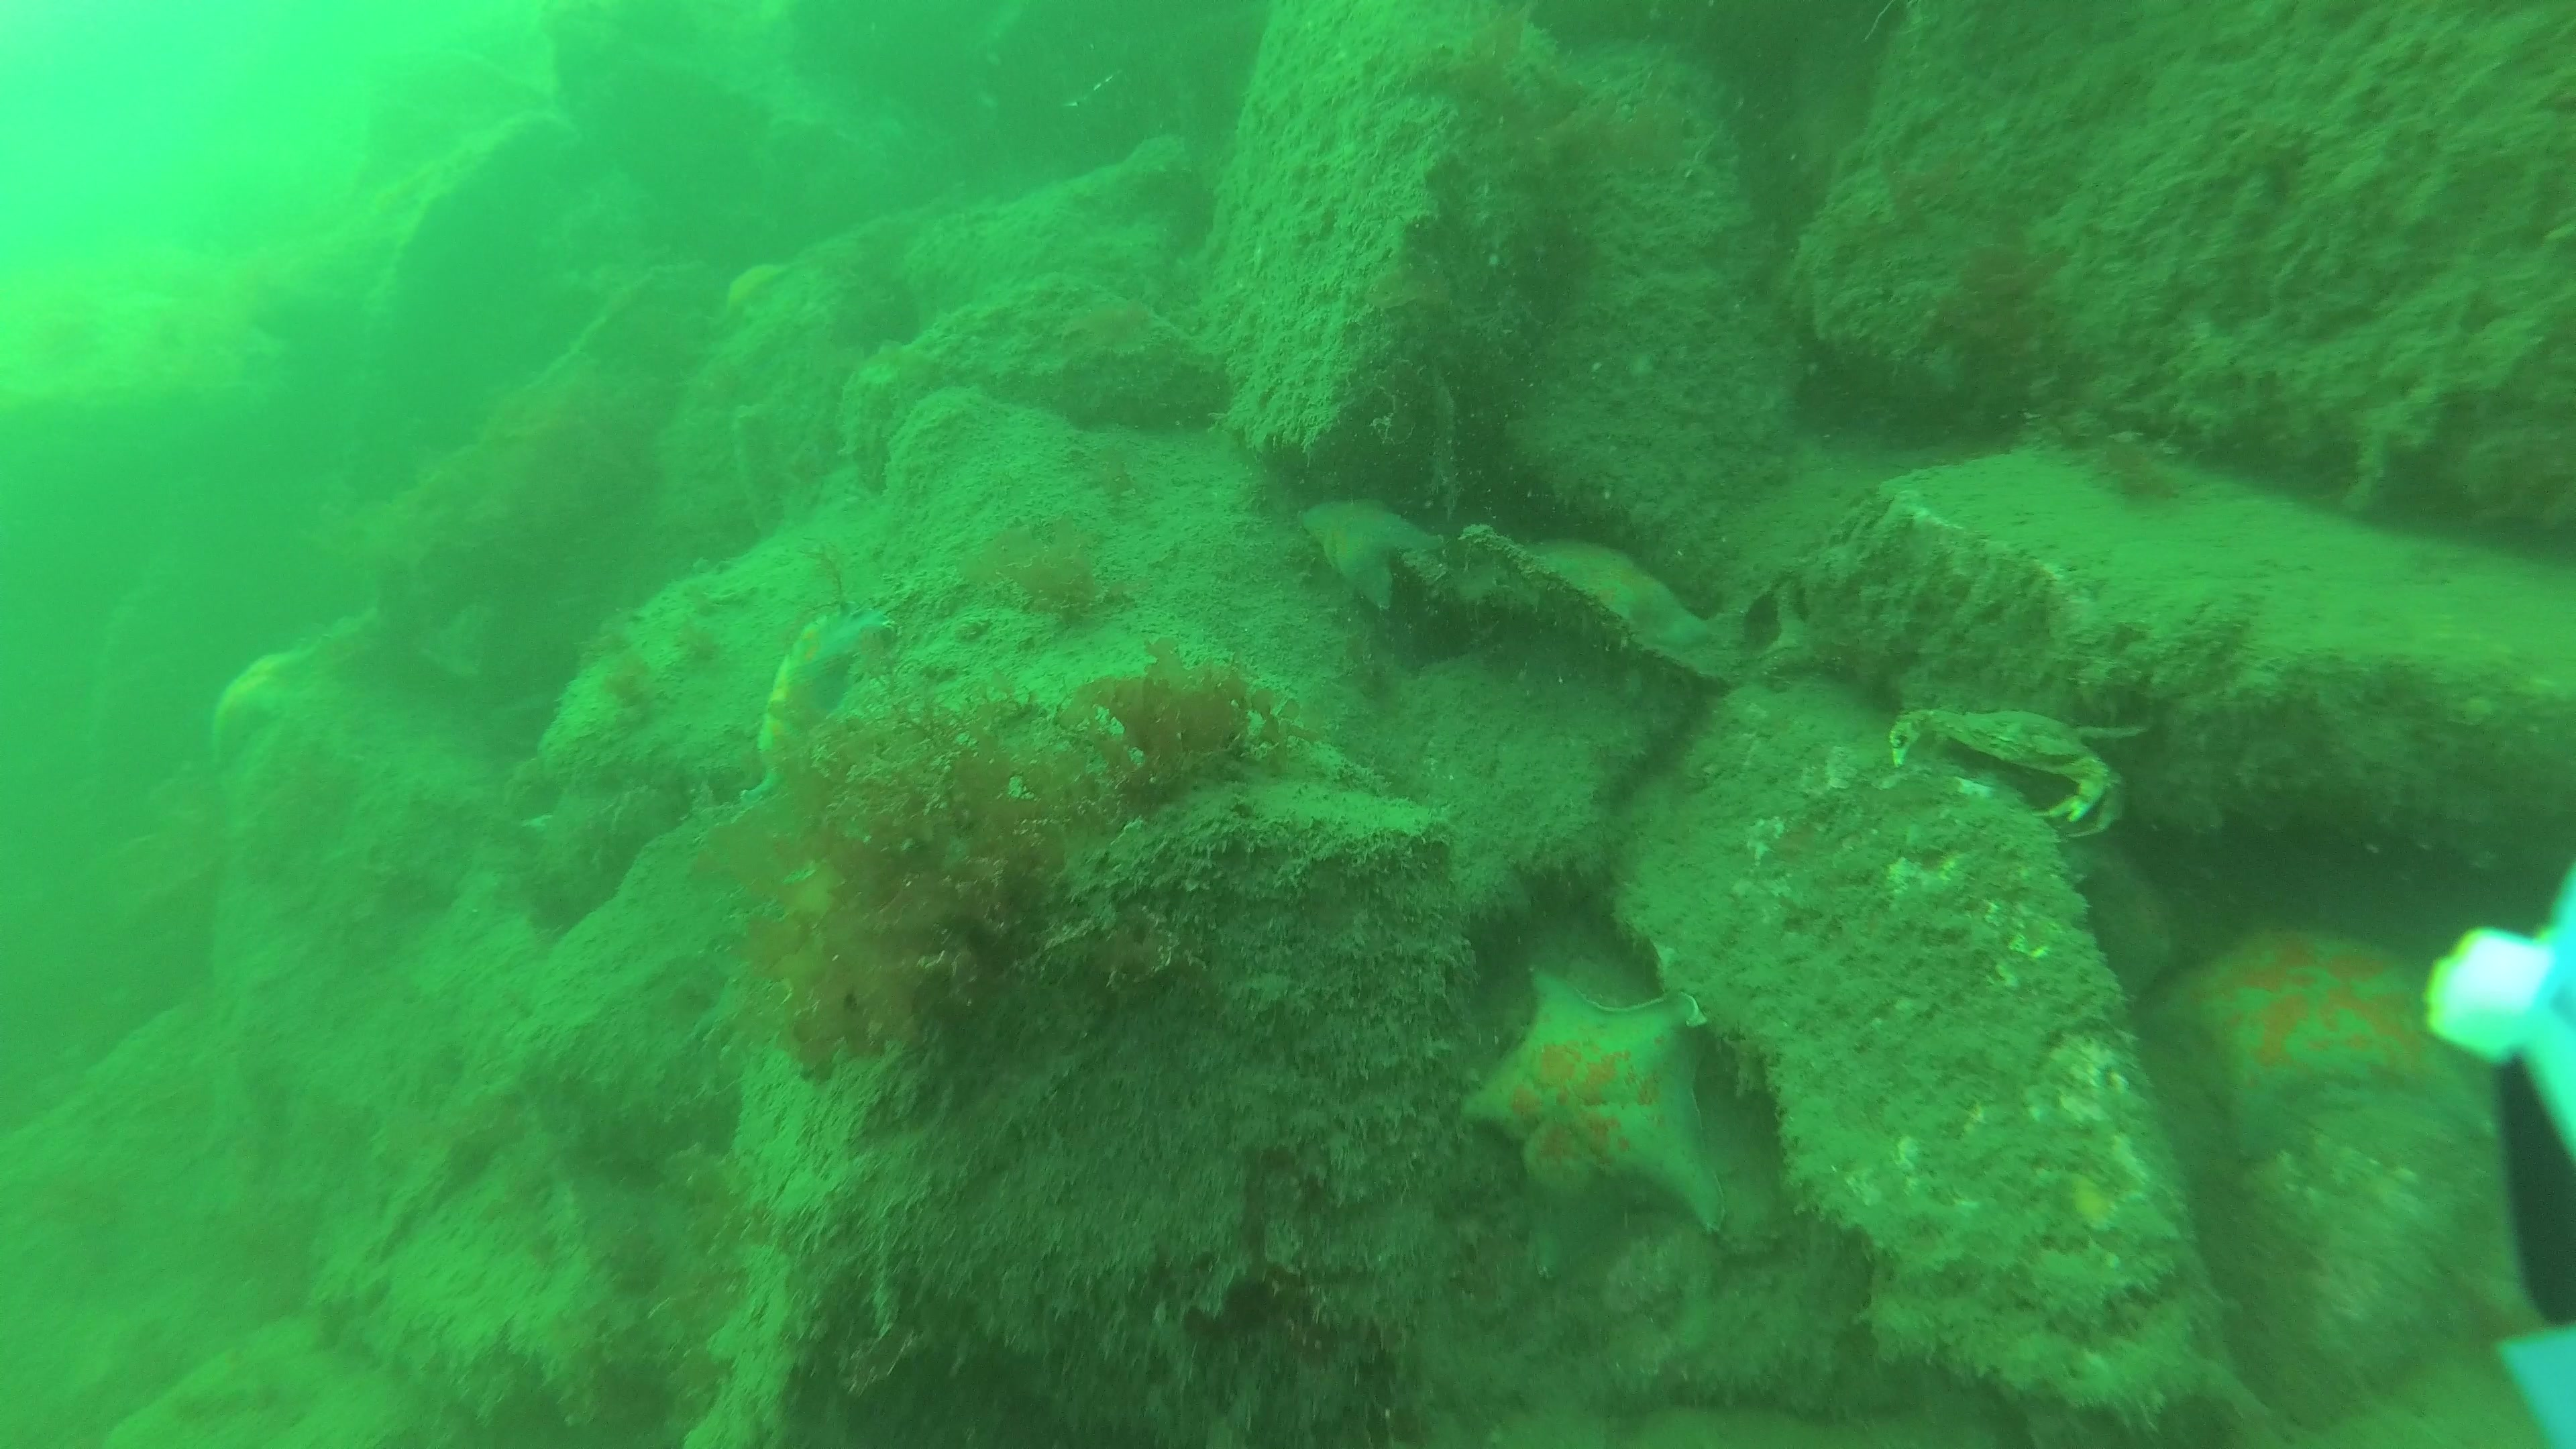starfish: (2169, 932, 2502, 1150), (1463, 973, 1732, 1233), (1514, 538, 1737, 686), (755, 607, 895, 794), (1299, 487, 1444, 614)
